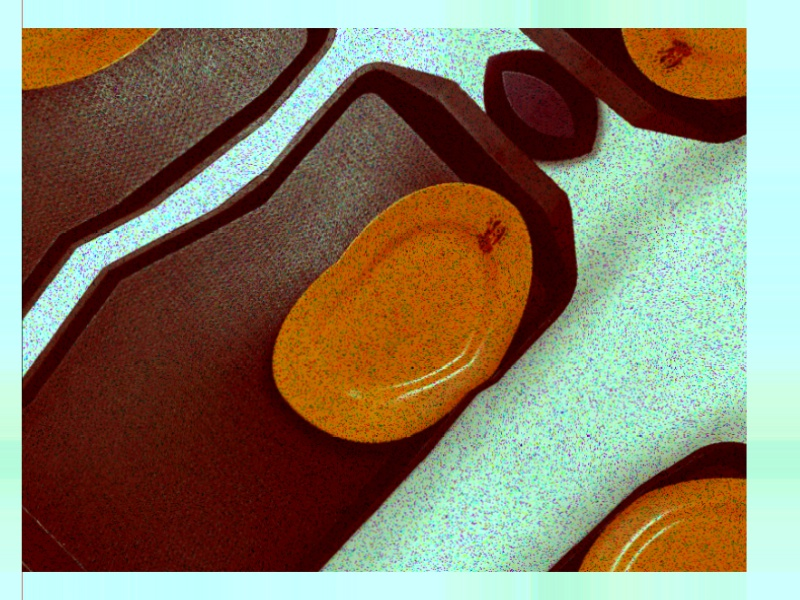dish10: (211, 130, 588, 512)
